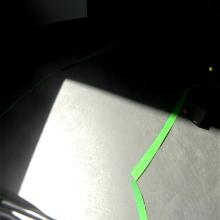green: (204, 56, 220, 76)
